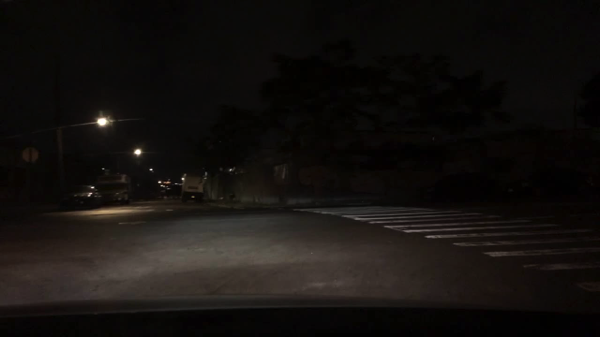car: (59, 185, 104, 211)
traffic sign: (21, 147, 40, 164)
truck: (96, 173, 132, 205), (180, 173, 206, 204)
